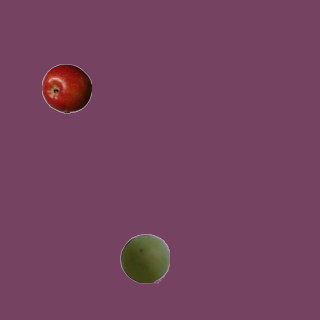Apple Braeburn: (41, 63, 91, 113)
Grape White 4: (119, 233, 169, 283)
